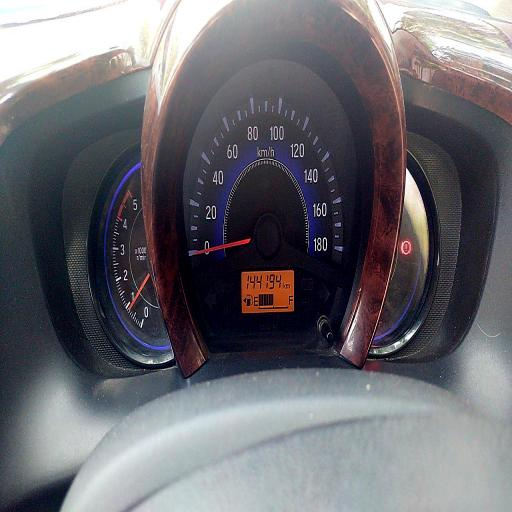brake_system_fault: (401, 240, 411, 254)
tachometer: (103, 159, 172, 352)
